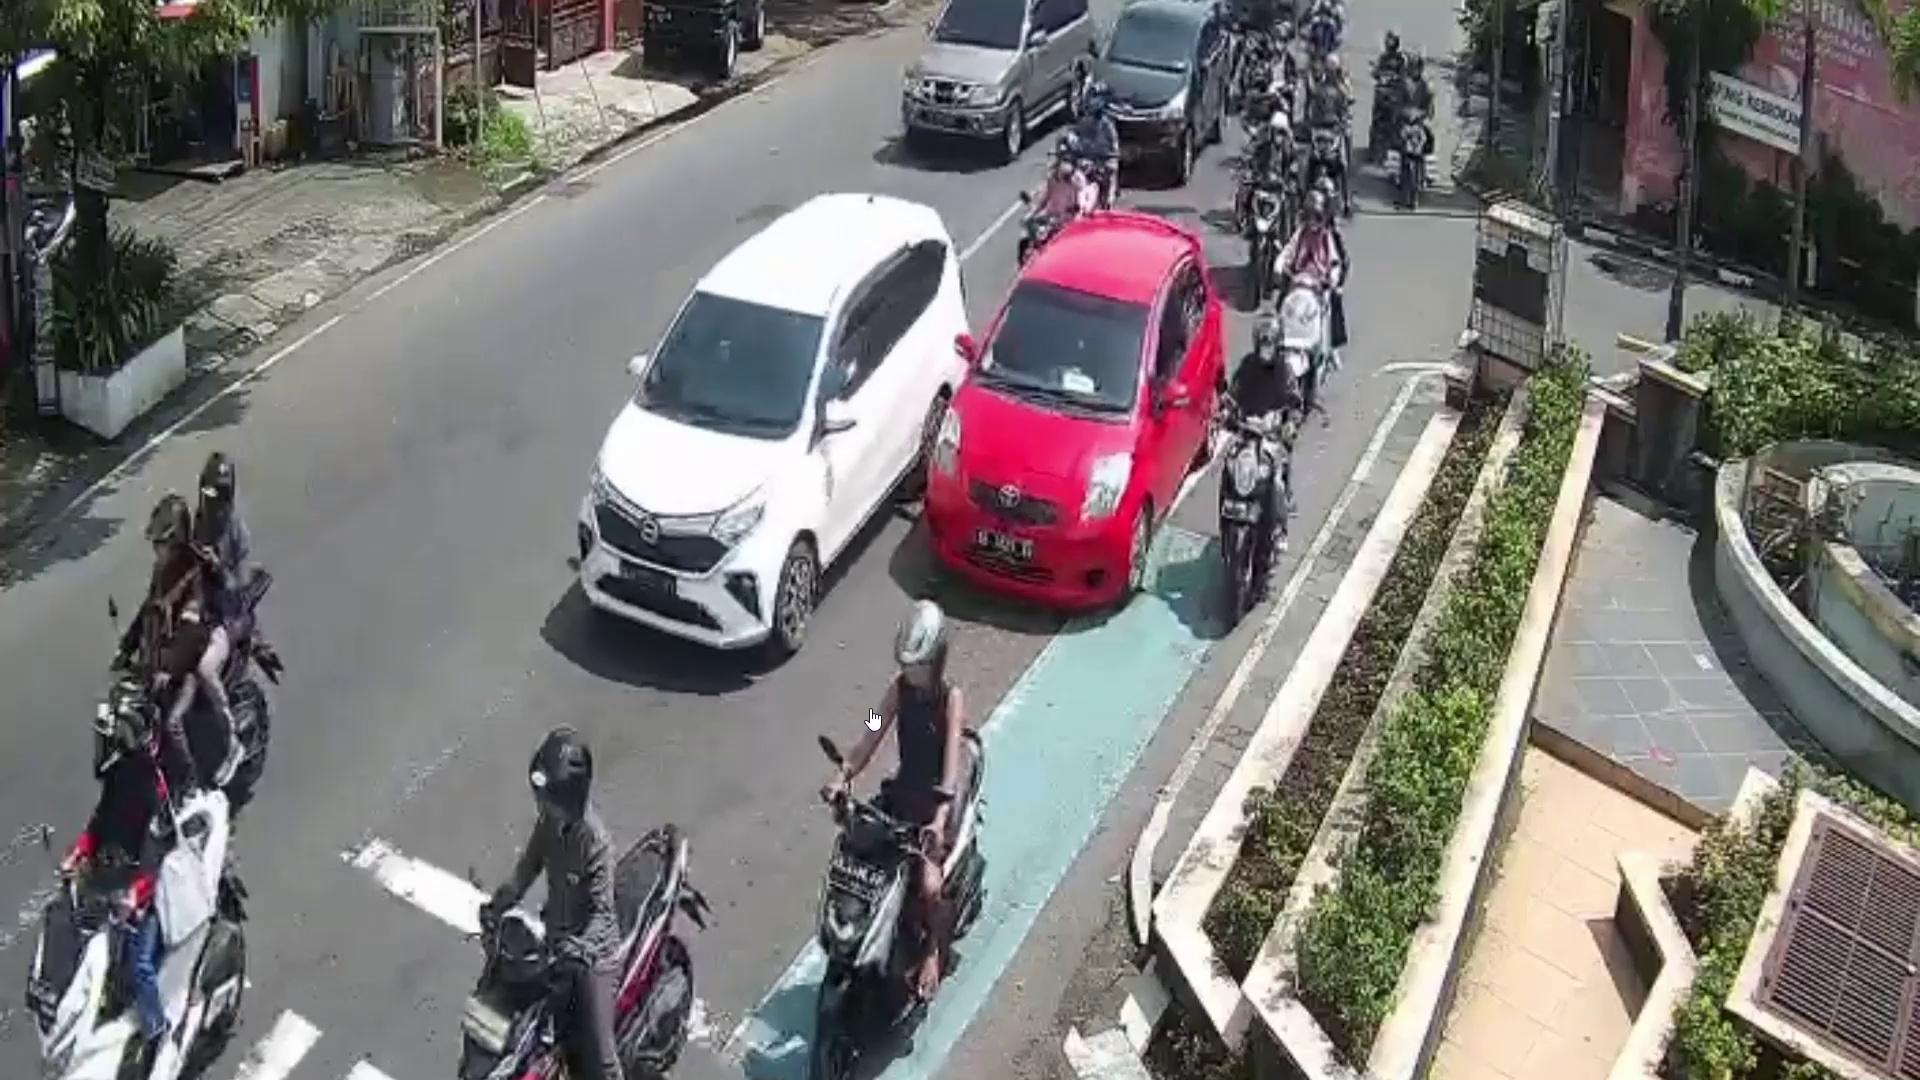car: (574, 191, 977, 684), (928, 204, 1225, 612), (903, 0, 1100, 157), (1083, 0, 1226, 175)
motorbike: (32, 789, 249, 1080), (812, 727, 986, 1080), (458, 827, 700, 1080), (1216, 413, 1276, 625), (1280, 266, 1327, 381)
